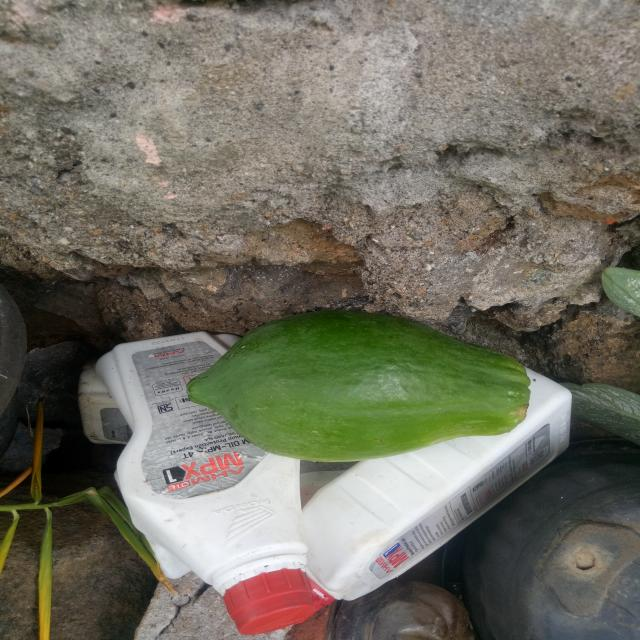Pepaya unrippen: (176, 305, 538, 470)
